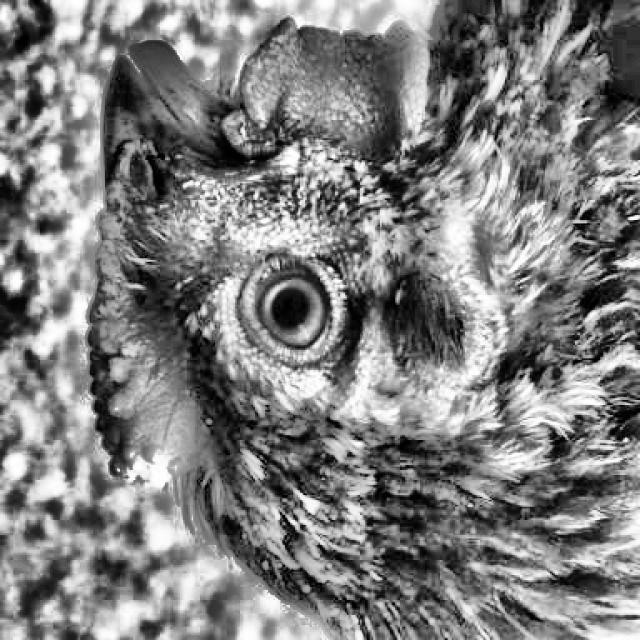Healthy: (232, 242, 363, 386)
